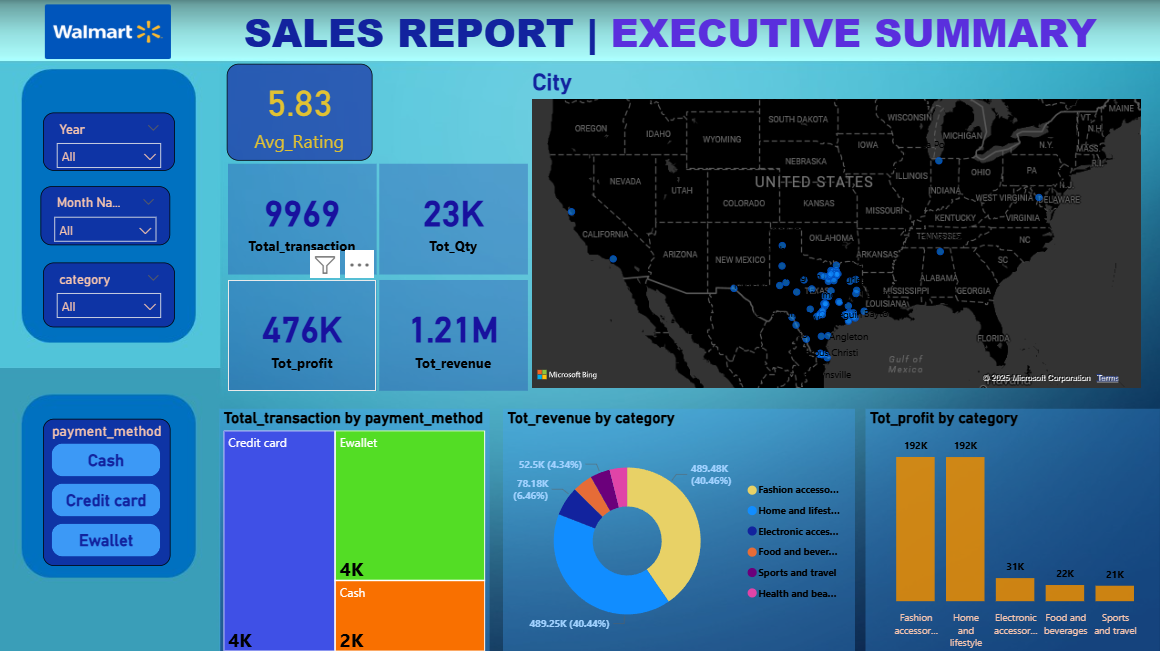

This screenshot's page, from the dashboard's own definition file:
{"tool":"powerbi","page":{"name":"Page 1","canvas":[1280,720],"ordinal":0},"visuals":[{"type":"slicer","fields":{"Values":["calendar.Year"]},"box":[49.5,123.1,144.8,63.9],"z":0},{"type":"card","fields":{"Values":["walmart_clean.Total_transaction"]},"box":[252.1,179.8,162.9,121.9],"z":1000},{"type":"card","fields":{"Values":["walmart_clean.Tot_revenue"]},"box":[418.6,307.6,162.9,121.9],"z":2000},{"type":"card","fields":{"Values":["walmart_clean.Tot_profit"]},"box":[252.1,307.6,162.9,121.9],"z":3000},{"type":"card","fields":{"Values":["walmart_clean.Tot_Qty"]},"box":[418.6,179.8,162.9,121.9],"z":4000},{"type":"advancedSlicerVisual","fields":{"Values":["walmart_clean.payment_method"]},"box":[49.5,459.7,139.9,161.7],"z":5000},{"type":"card","fields":{"Values":["walmart_clean.Avg_Rating"]},"box":[251.7,70,160,106.7],"z":6000},{"type":"treemap","fields":{"Group":["walmart_clean.payment_method"],"Values":["walmart_clean.Total_transaction"]},"box":[243,448.8,296.8,271.4],"z":7000},{"type":"pieChart","fields":{"Y":["walmart_clean.Tot_revenue"],"Category":["walmart_clean.category"]},"box":[553.8,448.8,386.1,271.4],"z":8000},{"type":"slicer","fields":{"Values":["walmart_clean.category"]},"box":[49.5,288.3,144.8,71.2],"z":9000},{"type":"columnChart","fields":{"Category":["walmart_clean.category"],"Y":["walmart_clean.Tot_profit"]},"box":[951.9,448.8,323.3,271.4],"z":10000},{"type":"slicer","fields":{"Values":["calendar.Month Name"]},"box":[47.1,205.1,142.4,65.1],"z":11000},{"type":"textbox","box":[265,0,995,75],"z":12000},{"type":"image","box":[46.7,0,148.3,70],"z":13000},{"type":"map","fields":{"Category":["walmart_clean.City"]},"box":[581.7,75,678.3,355],"z":14000}]}

Visuals, with their boxes in screenshot pixels (x1, y1, x2, y2), scaled from the page's 1280x720 canvas onto the 1160x651 screenshot:
slicer - calendar.Year: box=[45, 111, 176, 169]
card - walmart_clean.Total_transaction: box=[228, 163, 376, 273]
card - walmart_clean.Tot_revenue: box=[379, 278, 527, 388]
card - walmart_clean.Tot_profit: box=[228, 278, 376, 388]
card - walmart_clean.Tot_Qty: box=[379, 163, 527, 273]
advancedSlicerVisual - walmart_clean.payment_method: box=[45, 416, 172, 562]
card - walmart_clean.Avg_Rating: box=[228, 63, 373, 160]
treemap - walmart_clean.payment_method x walmart_clean.Total_transaction: box=[220, 406, 489, 650]
pieChart - walmart_clean.Tot_revenue x walmart_clean.category: box=[502, 406, 852, 650]
slicer - walmart_clean.category: box=[45, 261, 176, 325]
columnChart - walmart_clean.category x walmart_clean.Tot_profit: box=[863, 406, 1156, 650]
slicer - calendar.Month Name: box=[43, 185, 172, 244]
textbox: box=[240, 0, 1142, 68]
image: box=[42, 0, 177, 63]
map - walmart_clean.City: box=[527, 68, 1142, 389]
